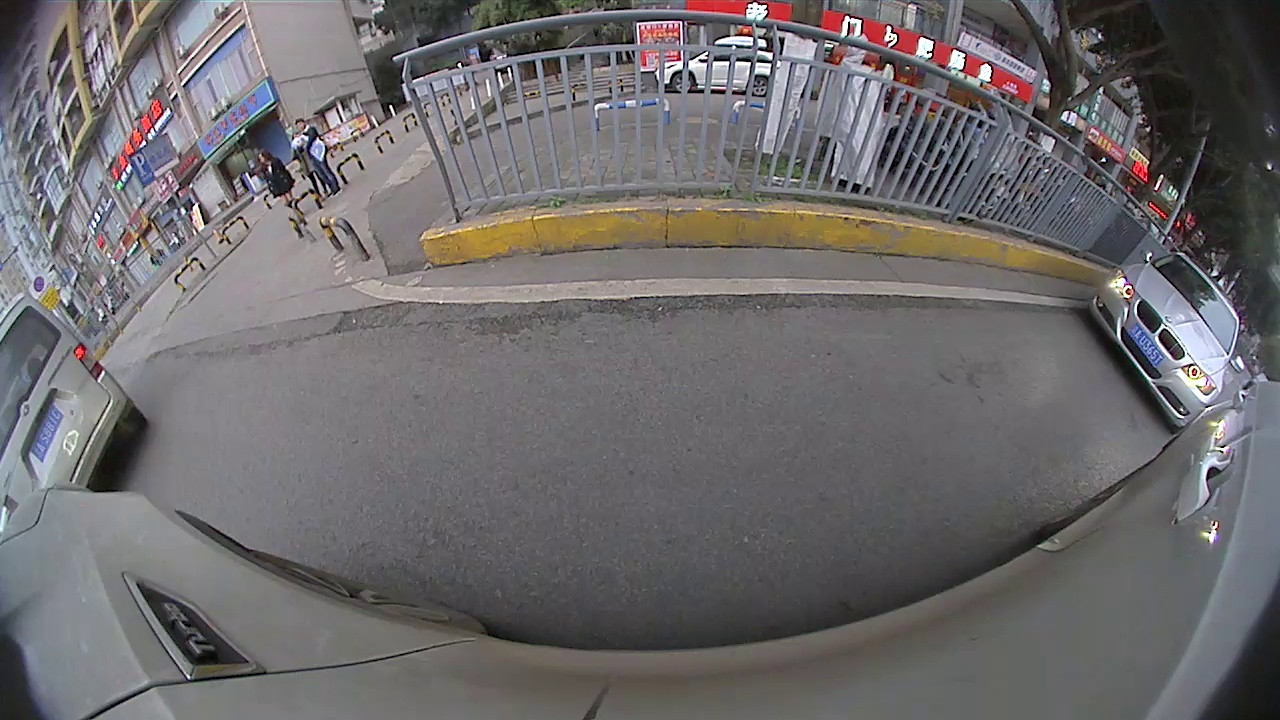car: (2, 287, 150, 518), (1085, 245, 1248, 433), (652, 34, 784, 99)
front: (670, 73, 697, 93)
person: (290, 115, 326, 177), (254, 147, 287, 201)
rear: (747, 76, 773, 99)
